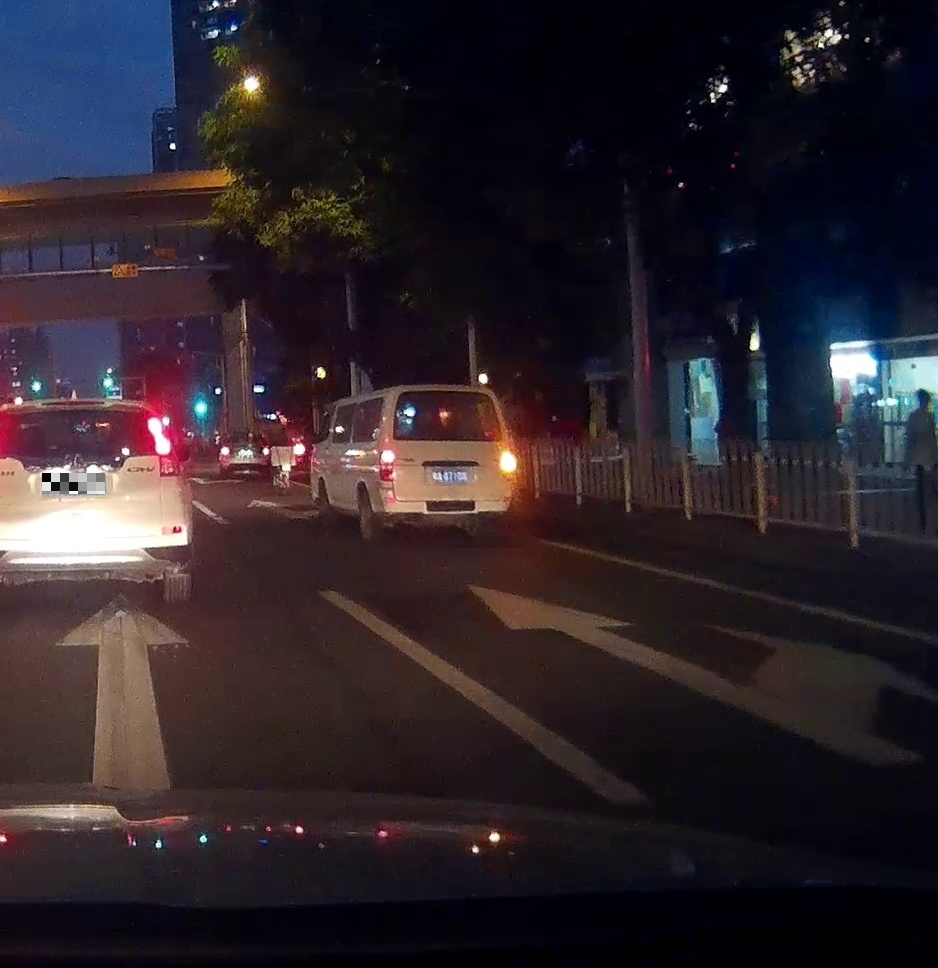L_light: (380, 451, 395, 483)
R_light: (499, 448, 517, 480)
T_light: (433, 390, 456, 398)
night-right: (379, 384, 517, 541)
plate_1: (42, 473, 105, 494)
